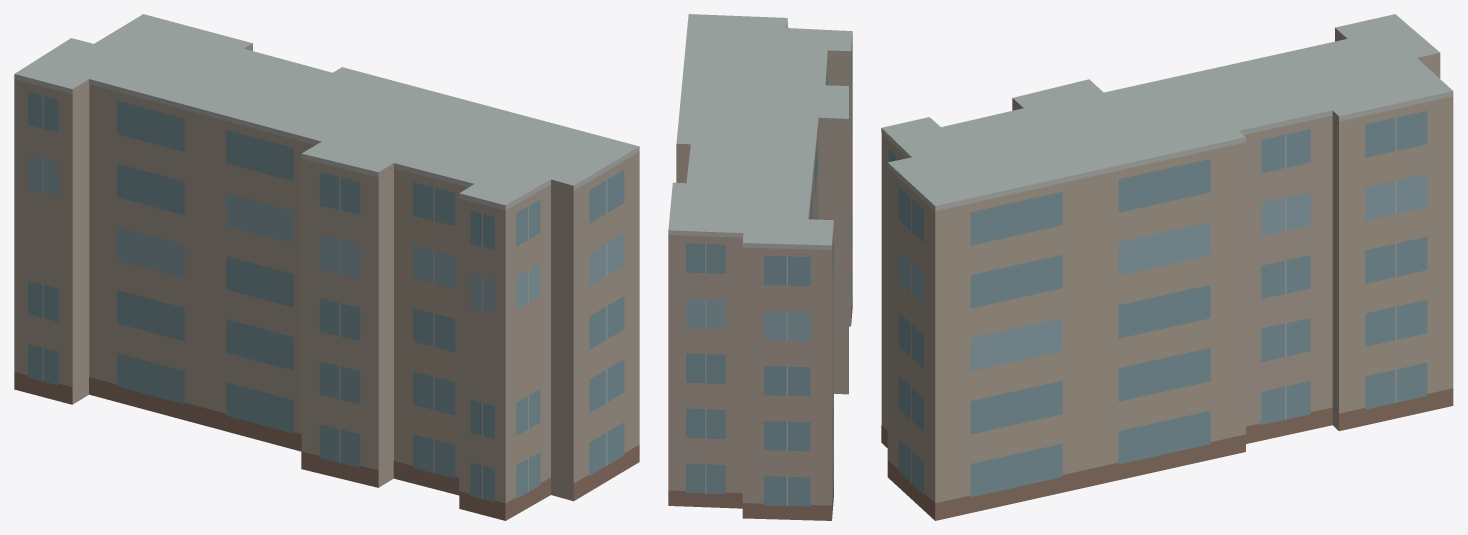
Rendered from survey-upis-33041016.glb.
3 views of the same model, side by side, from view 1: azimuth 30°, elevation 25°; view 2: azimuth 150°, elevation 25°; view 3: azimuth 270°, elevation 25° (orthographic). The views are drawn at different scales.
Parts seen in each view (by area): view 1: survey-upis-33041016.tmp; view 2: survey-upis-33041016.tmp; view 3: survey-upis-33041016.tmp.
Part boxes in pixels (bbox=[...]): survey-upis-33041016.tmp: bbox=[14, 14, 639, 520]; survey-upis-33041016.tmp: bbox=[668, 14, 852, 520]; survey-upis-33041016.tmp: bbox=[881, 14, 1453, 520].
Size of the model in its own units: 19.38 by 14.8 by 24.38.
